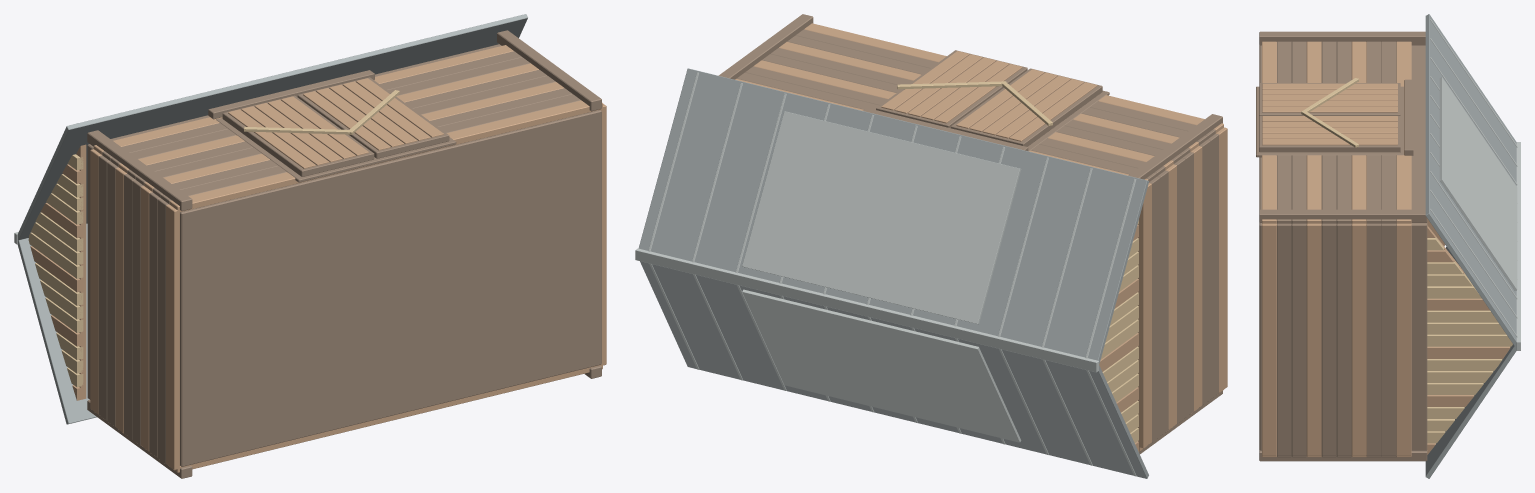
File: Podlasie_Barn_Puchly_62.fbx
3 views of the same model, side by side, from view 1: azimuth 30°, elevation 25°; view 2: azimuth 150°, elevation 25°; view 3: azimuth 270°, elevation 25° (orthographic). The views are drawn at different scales.
Visible parts, largest first — view 1: Barn_Wall_Core, Barn_Roof_Panel, Barn_Side_Board_00.001, Barn_End_Board_00, Barn_Roof_Panel_Far, Barn_End_Board_08, Barn_End_Board_04, Barn_End_Board_01, Barn_End_Board_03, Barn_End_Board_07, Barn_End_Board_09, Barn_End_Board_02 (+35 smaller); view 2: Barn_Roof_Panel, Barn_Roof_Snow, Barn_Roof_Panel_Far, Barn_Roof_Snow_Far, Barn_Ridge_Cap, Barn_End_Board_09, Barn_End_Board_05, Barn_End_Board_02, Barn_End_Board_03, Barn_End_Board_04, Barn_End_Board_07, Barn_End_Board_00 (+27 smaller); view 3: Barn_Roof_Panel, Barn_Roof_Snow, Barn_Wall_Core, Barn_End_Board_02.001, Barn_End_Board_03.001, Barn_End_Board_04.001, Barn_End_Board_05.001, Barn_End_Board_06.001, Barn_End_Board_07.001, Barn_End_Board_08.001, Barn_End_Board_09.001, Barn_End_Board_00.001 (+53 smaller).
Part boxes in pixels (box(x1,y1,x2,y2)): Barn_Wall_Core: box(87, 44, 601, 466); Barn_Roof_Panel: box(17, 14, 527, 240); Barn_Side_Board_00.001: box(169, 100, 602, 212); Barn_End_Board_00: box(166, 204, 179, 469); Barn_Roof_Panel_Far: box(17, 223, 96, 424); Barn_End_Board_08: box(98, 155, 110, 420); Barn_End_Board_04: box(132, 180, 143, 445); Barn_End_Board_01: box(157, 198, 168, 463); Barn_End_Board_03: box(141, 186, 152, 451); Barn_End_Board_07: box(107, 161, 118, 426); Barn_End_Board_09: box(90, 149, 101, 414); Barn_End_Board_02: box(149, 192, 160, 457); Barn_Roof_Panel: box(638, 68, 1148, 364); Barn_Roof_Snow: box(742, 111, 1021, 324); Barn_Roof_Panel_Far: box(640, 261, 1148, 478); Barn_Roof_Snow_Far: box(742, 289, 1021, 442); Barn_Ridge_Cap: box(635, 248, 1098, 372); Barn_End_Board_09: box(1138, 183, 1151, 448); Barn_End_Board_05: box(1174, 158, 1185, 423); Barn_End_Board_02: box(1199, 139, 1210, 404); Barn_End_Board_03: box(1191, 146, 1202, 411); Barn_End_Board_04: box(1182, 152, 1193, 417); Barn_End_Board_07: box(1157, 170, 1168, 435); Barn_End_Board_00: box(1216, 127, 1227, 392); Barn_Roof_Panel: box(1425, 14, 1516, 346); Barn_Roof_Snow: box(1439, 77, 1517, 290); Barn_Wall_Core: box(1259, 45, 1427, 450); Barn_End_Board_02.001: box(1291, 223, 1306, 455); Barn_End_Board_03.001: box(1306, 223, 1321, 455); Barn_End_Board_04.001: box(1321, 223, 1336, 455); Barn_End_Board_05.001: box(1336, 223, 1351, 455); Barn_End_Board_06.001: box(1351, 223, 1366, 455); Barn_End_Board_07.001: box(1366, 223, 1381, 455); Barn_End_Board_08.001: box(1381, 223, 1396, 455); Barn_End_Board_09.001: box(1396, 223, 1411, 455); Barn_End_Board_00.001: box(1262, 223, 1276, 455).
Size of the model in its own units: 5.7 by 3.52 by 3.19.
